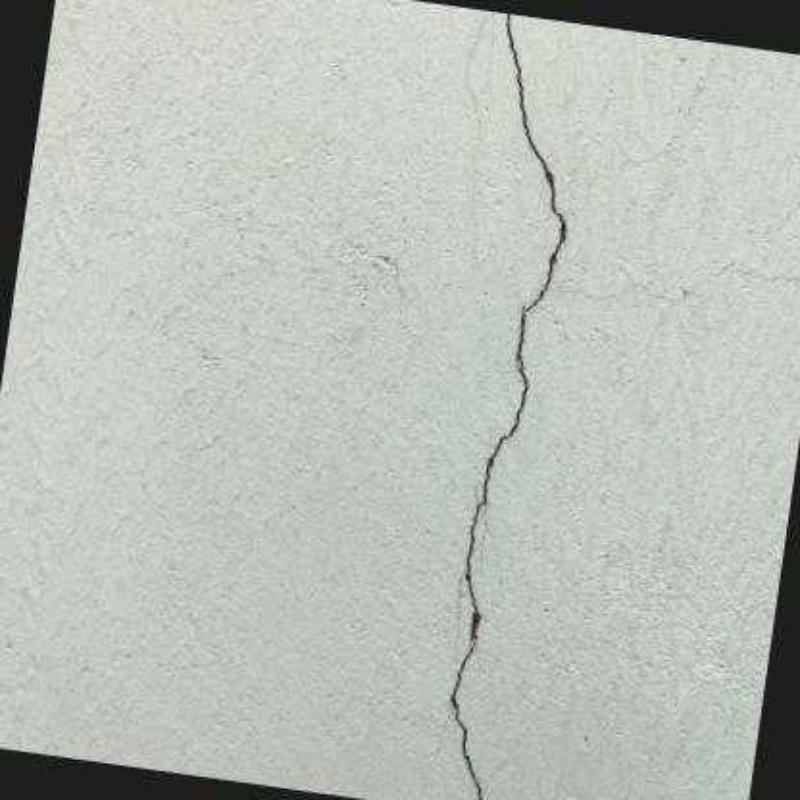pothole: (449, 14, 568, 800)
